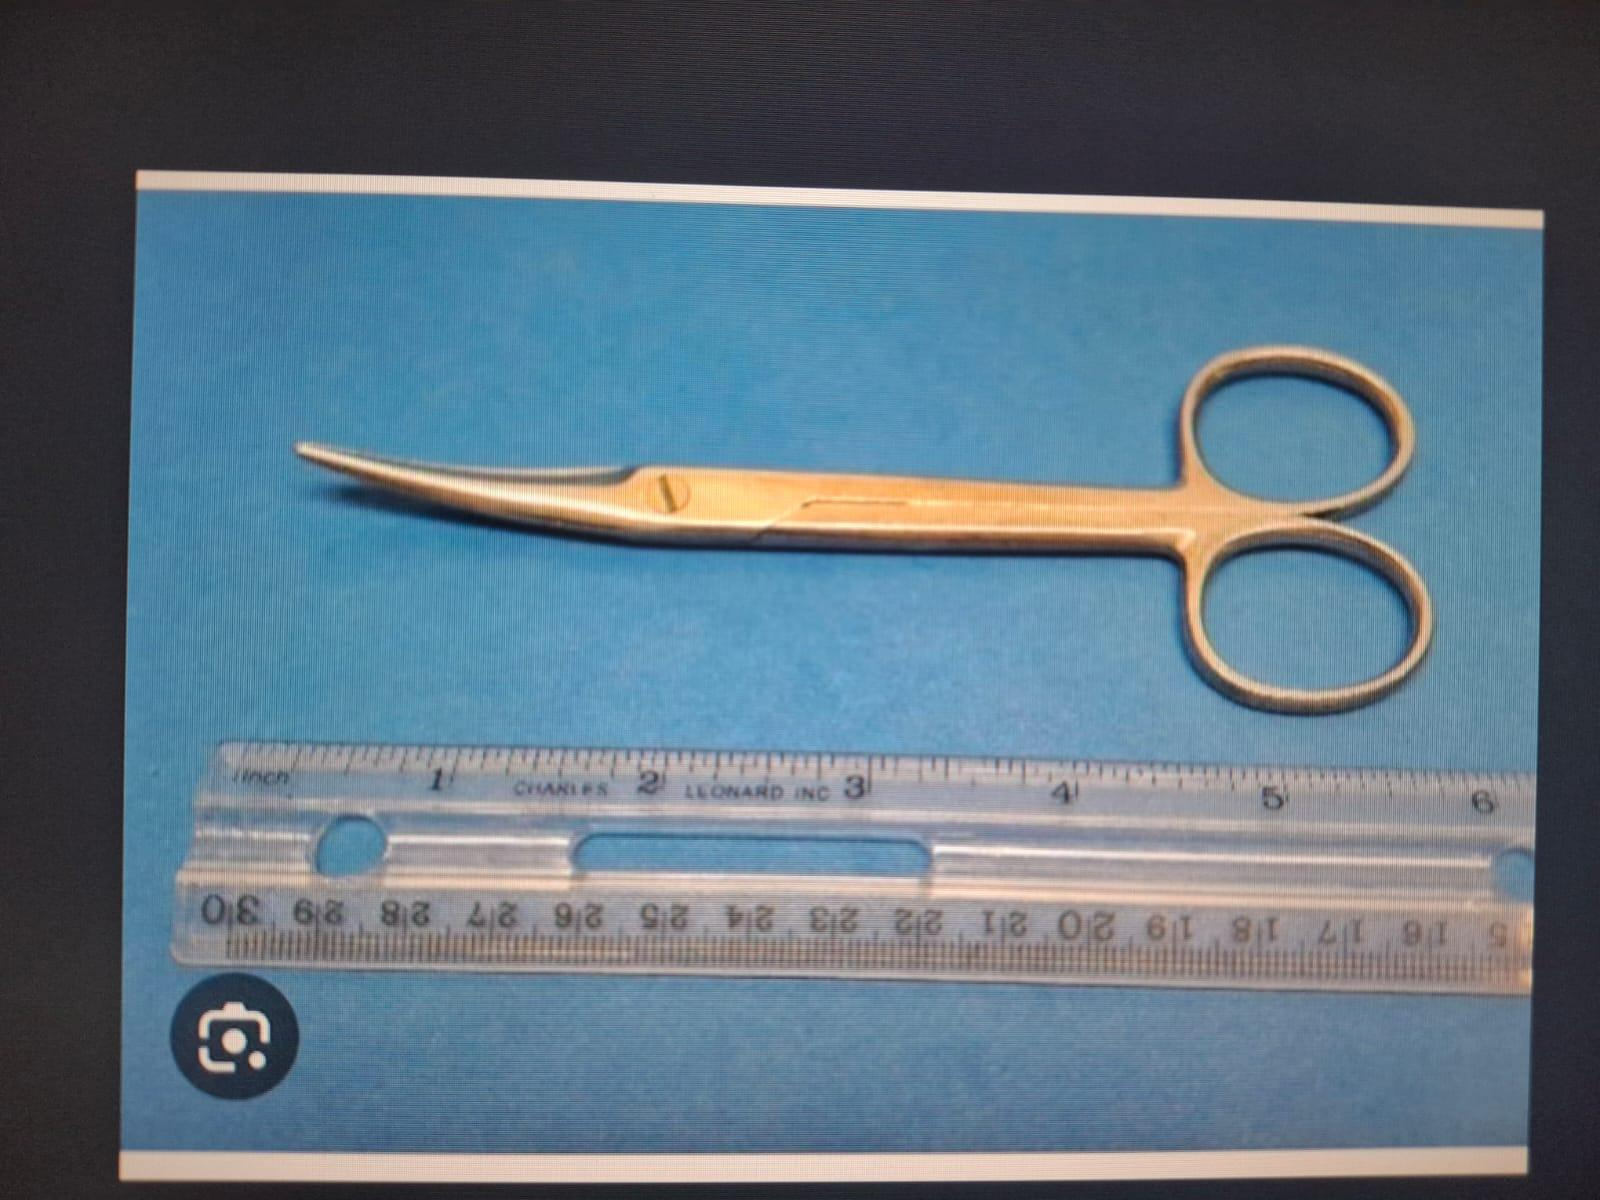Curved Mayo: (272, 322, 1442, 712)
